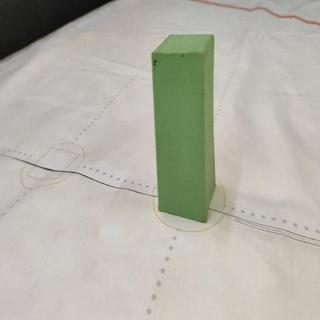greenbox: (153, 34, 214, 223)
